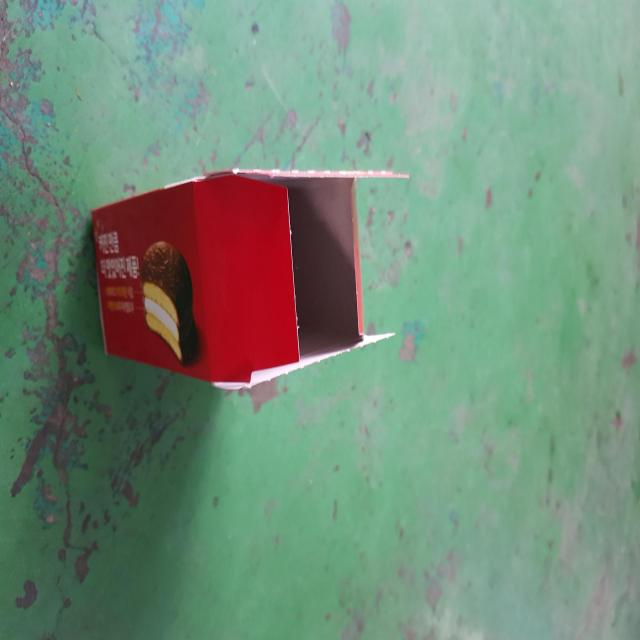paperpack: (91, 168, 407, 390)
